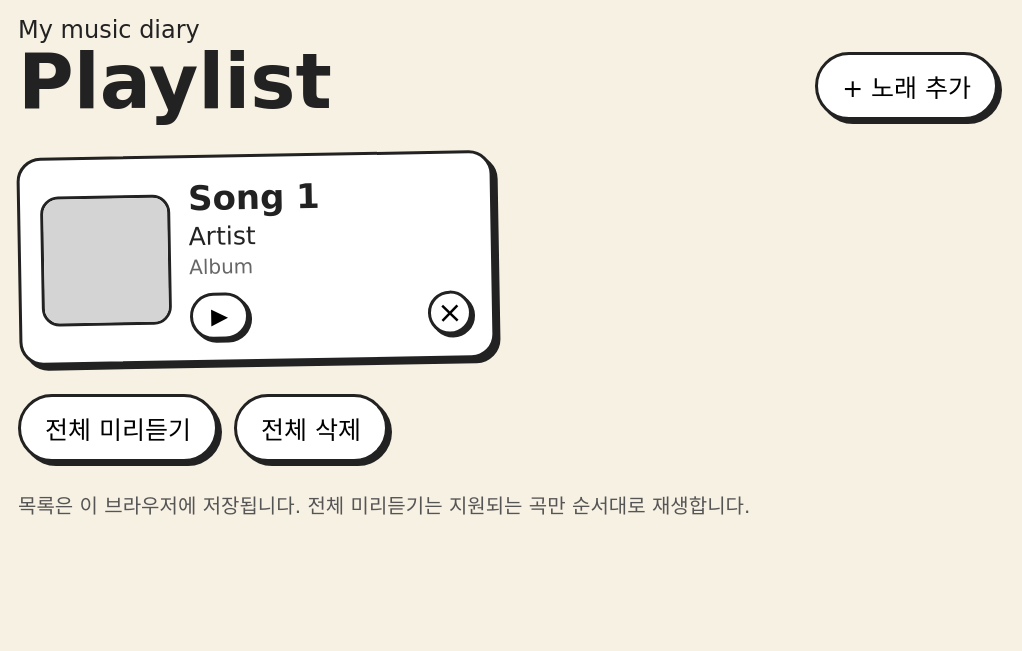
Scenario: missed storage event cannot silently overwrite changed data
Click the button named "Song 1 삭제" at x=450, y=312, box [428, 290, 472, 334]
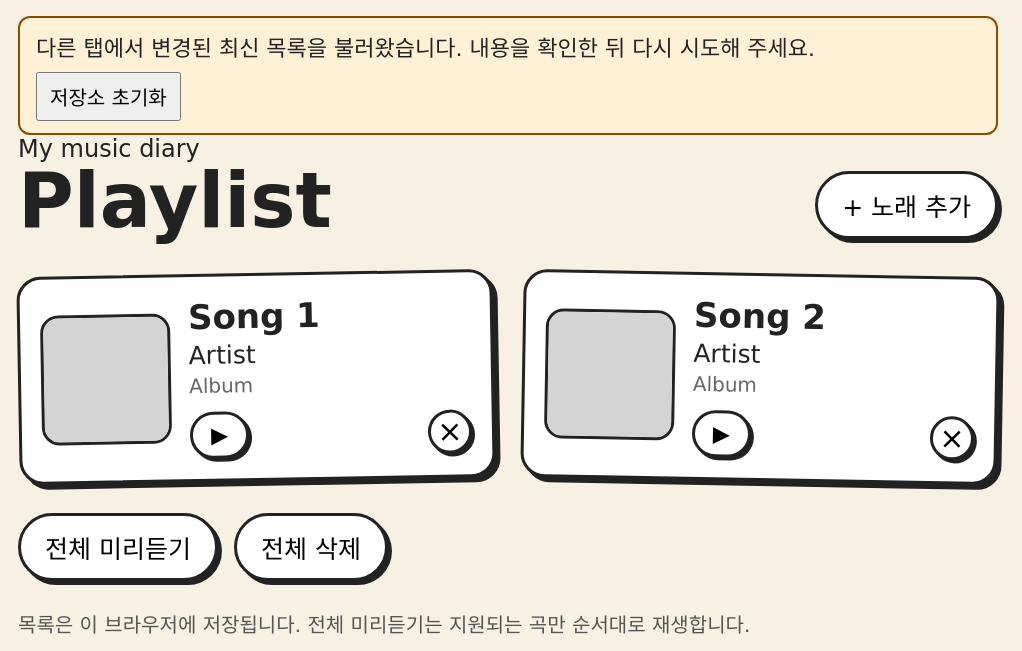
Result: the message shows "다른 탭" at [36, 36, 815, 61]
